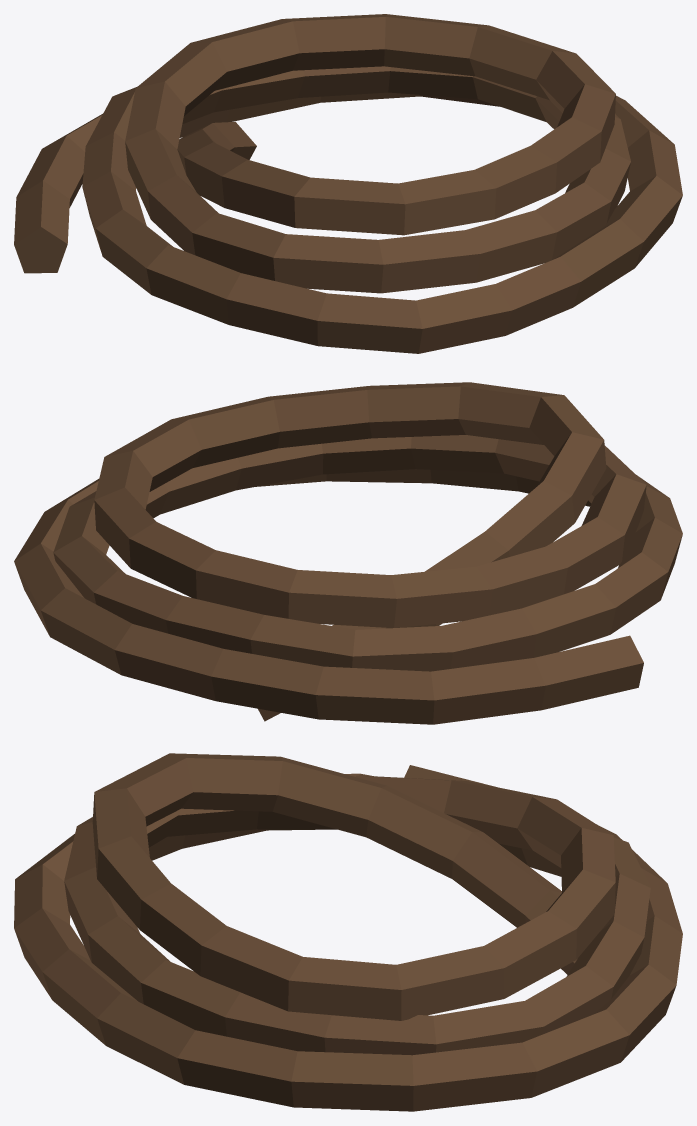
Rendered from Touwlowpoly.fbx.
3 renders of one model, top to bottom at view 1: azimuth 30°, elevation 25°; view 2: azimuth 150°, elevation 25°; view 3: azimuth 270°, elevation 25°, orthographic. The views are drawn at different scales.
Parts seen in each view (by area): view 1: Cylinder; view 2: Cylinder; view 3: Cylinder.
Part boxes in pixels (box(x1,y1,x2,y2)): Cylinder: box(14, 14, 682, 353); Cylinder: box(14, 382, 682, 724); Cylinder: box(14, 753, 682, 1111).
Bounding box in the file's own units: 28.77 × 7.61 × 26.
